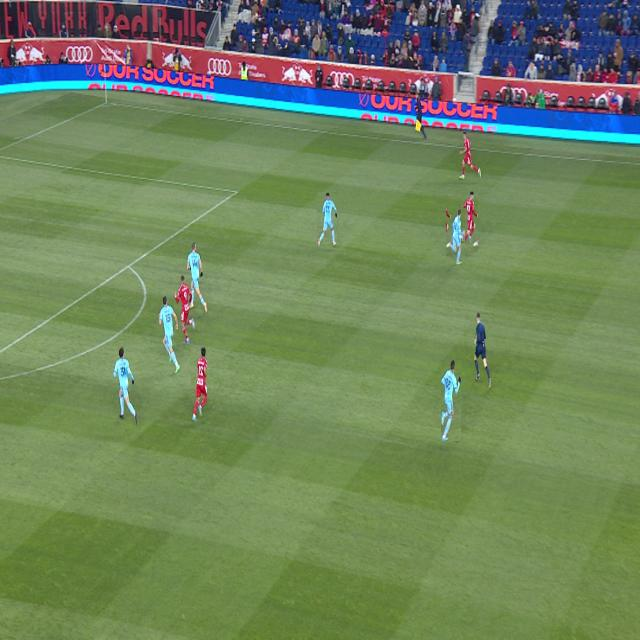football: (449, 235, 451, 242)
player: (113, 347, 138, 426), (158, 296, 180, 373), (441, 360, 461, 441), (187, 243, 208, 313), (174, 275, 195, 344), (192, 347, 207, 422), (318, 192, 337, 248), (459, 131, 481, 179), (447, 209, 465, 265), (461, 192, 478, 250)
referee: (474, 313, 491, 388)
